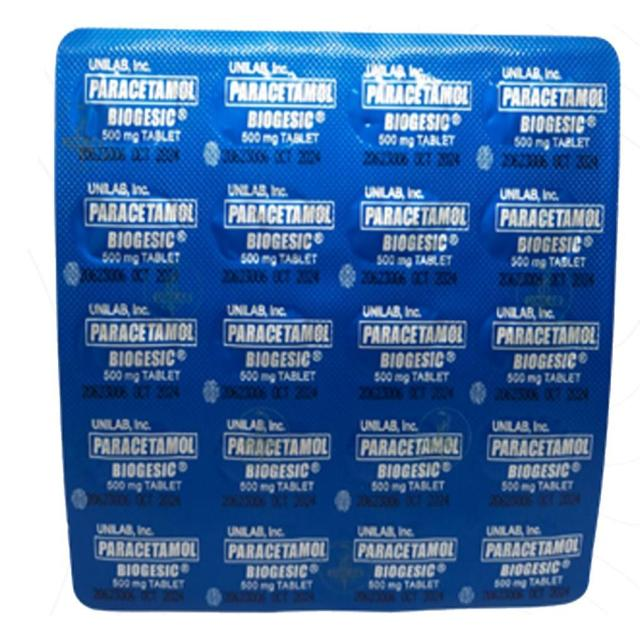blister: (45, 14, 622, 615)
